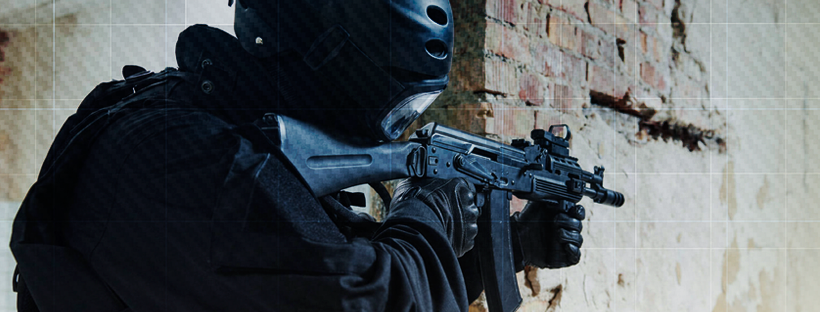Rifle: (268, 105, 625, 312)
